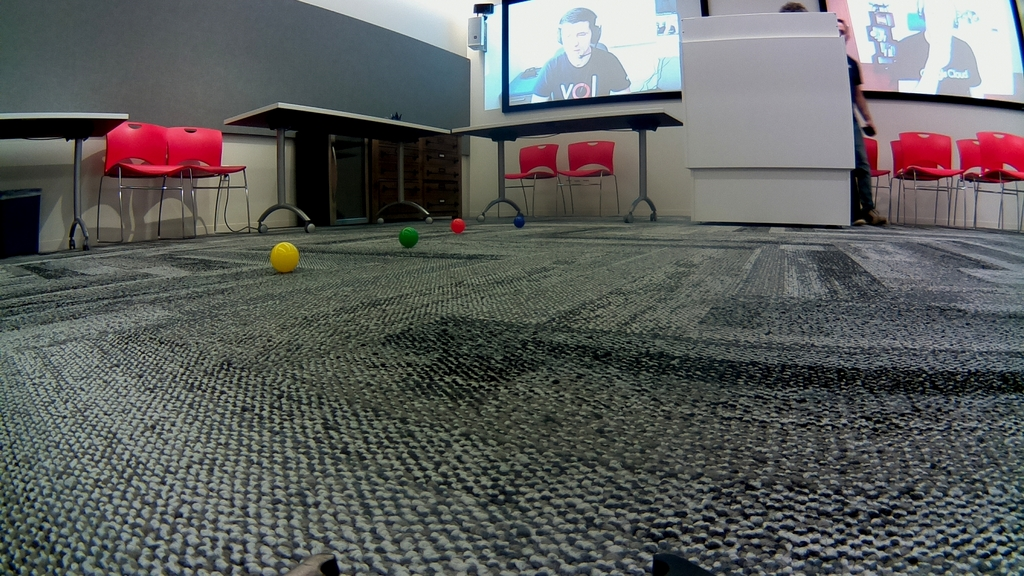ball: (448, 219, 467, 236)
